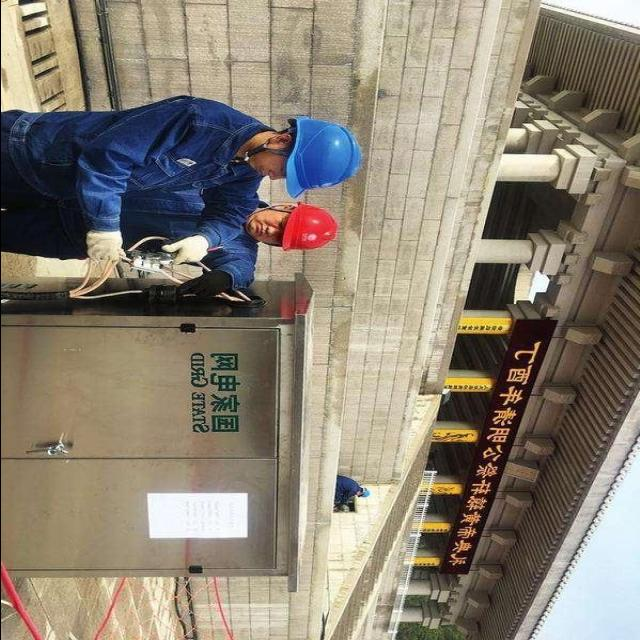helmet: (282, 108, 376, 198), (285, 196, 349, 264)
